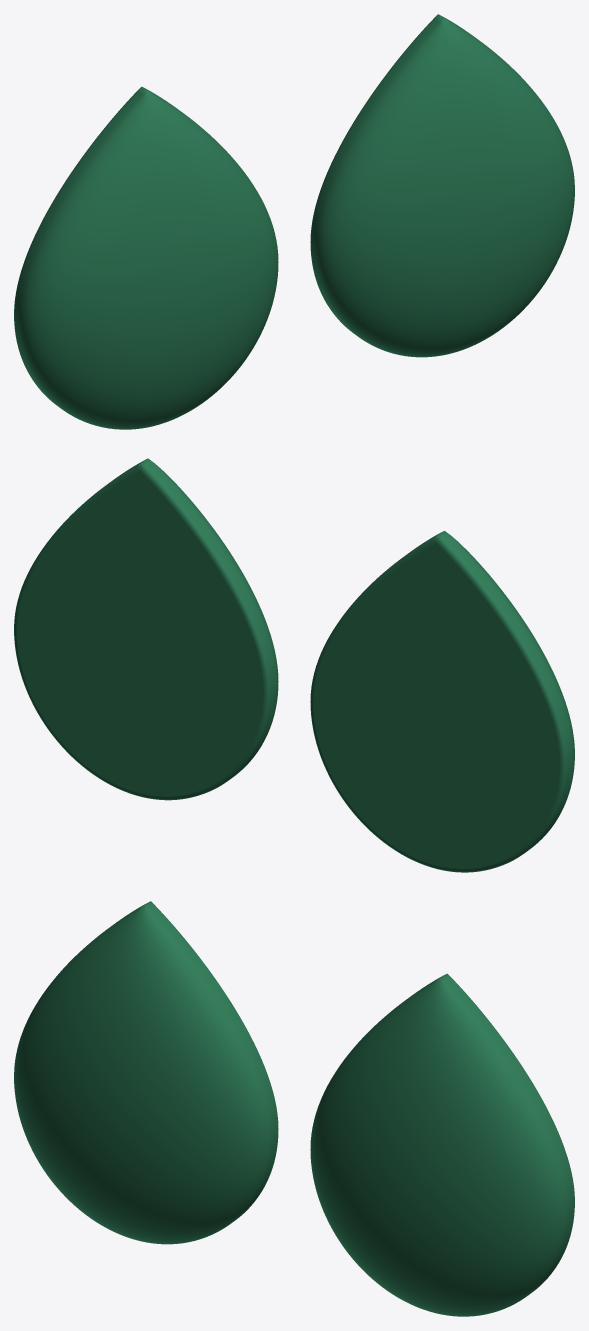
File: matched-pair-v1.glb
3 renders of one model, top to bottom at view 1: azimuth 30°, elevation 25°; view 2: azimuth 150°, elevation 25°; view 3: azimuth 330°, elevation 25°, orthographic.
Parts seen in each view (by area): view 1: Pear Cabochon 20x16x4mm.001, Pear Cabochon 20x16x4mm; view 2: Pear Cabochon 20x16x4mm, Pear Cabochon 20x16x4mm.001; view 3: Pear Cabochon 20x16x4mm, Pear Cabochon 20x16x4mm.001.
Part boxes in pixels (x1,y1,x2,y2): Pear Cabochon 20x16x4mm.001: (310,14,574,357); Pear Cabochon 20x16x4mm: (14,86,278,429); Pear Cabochon 20x16x4mm: (310,531,574,872); Pear Cabochon 20x16x4mm.001: (14,458,278,800); Pear Cabochon 20x16x4mm: (14,901,278,1244); Pear Cabochon 20x16x4mm.001: (310,973,574,1316).
Size of the model in its own units: 0.0346 by 0.02 by 0.00398.
